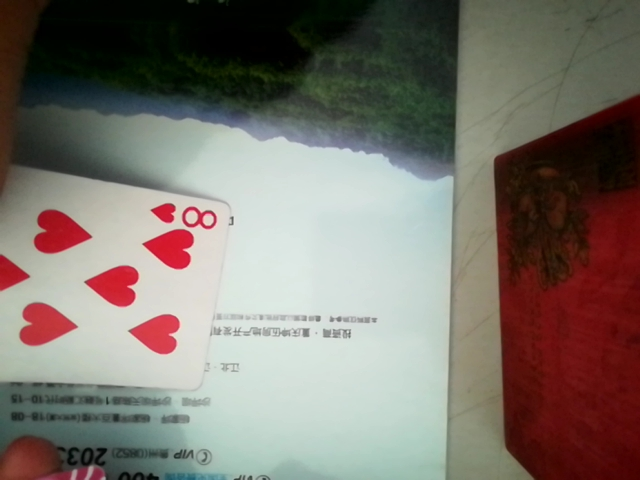hx 8: (0, 164, 225, 391)
